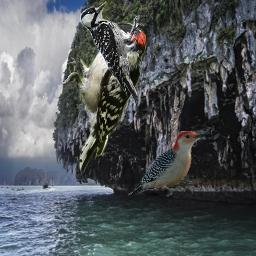Woodpecker: (63, 19, 146, 173), (79, 2, 142, 114), (128, 131, 210, 197)
